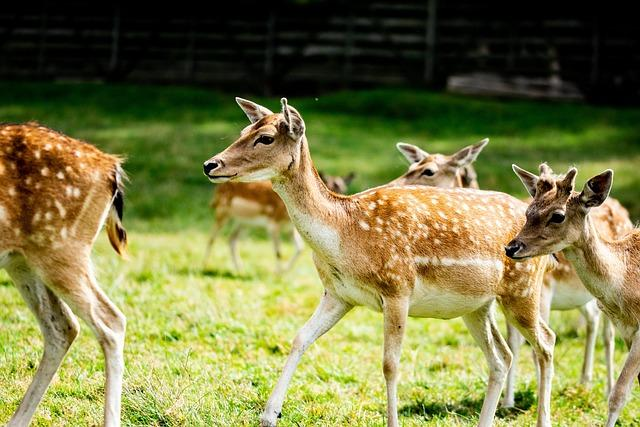Non_Gorille: (4, 10, 640, 427)
